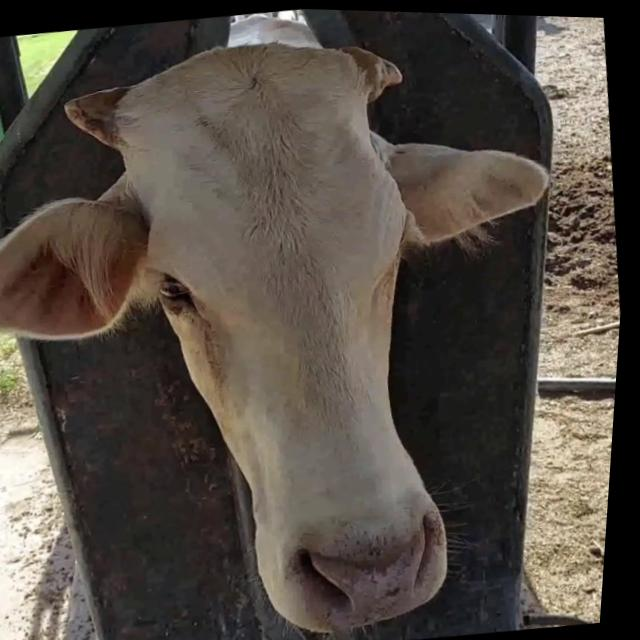cowFace: (83, 15, 490, 640)
